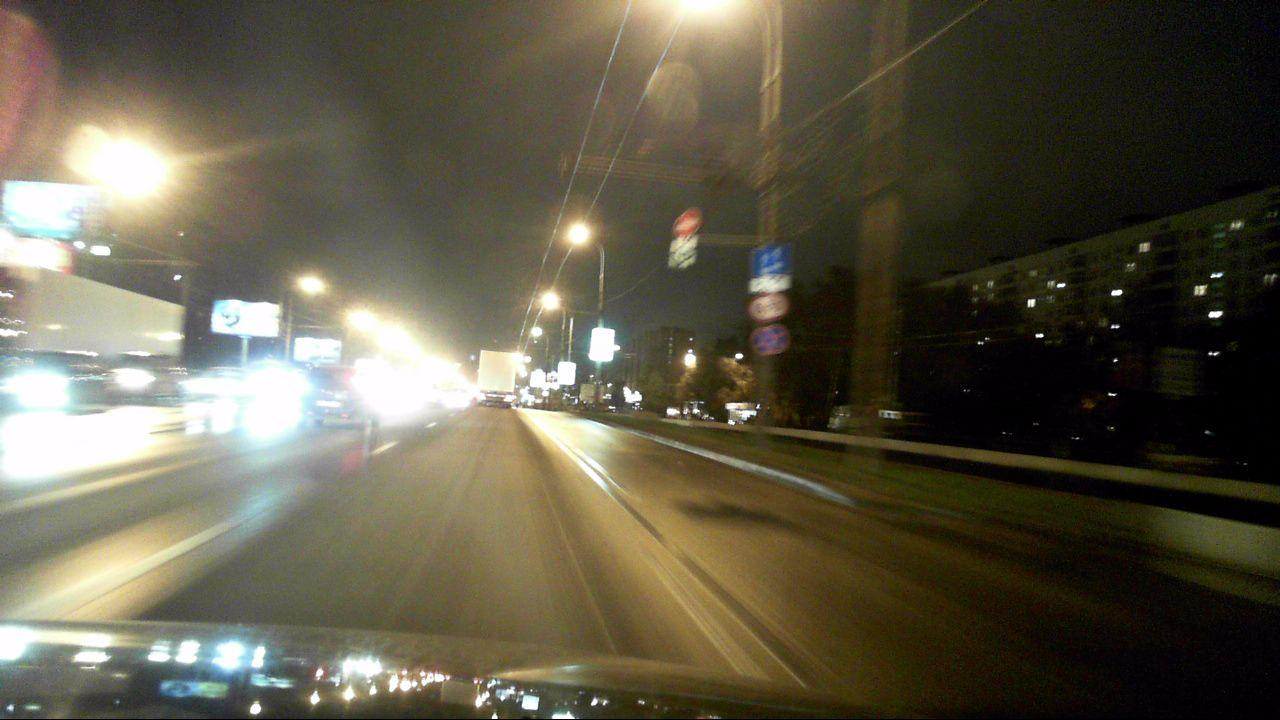3_1: (675, 213, 699, 237)
3_24: (748, 294, 787, 321)
3_27: (752, 325, 784, 355)
5_14_1: (753, 244, 790, 274)
8_5_2: (751, 275, 791, 292)
